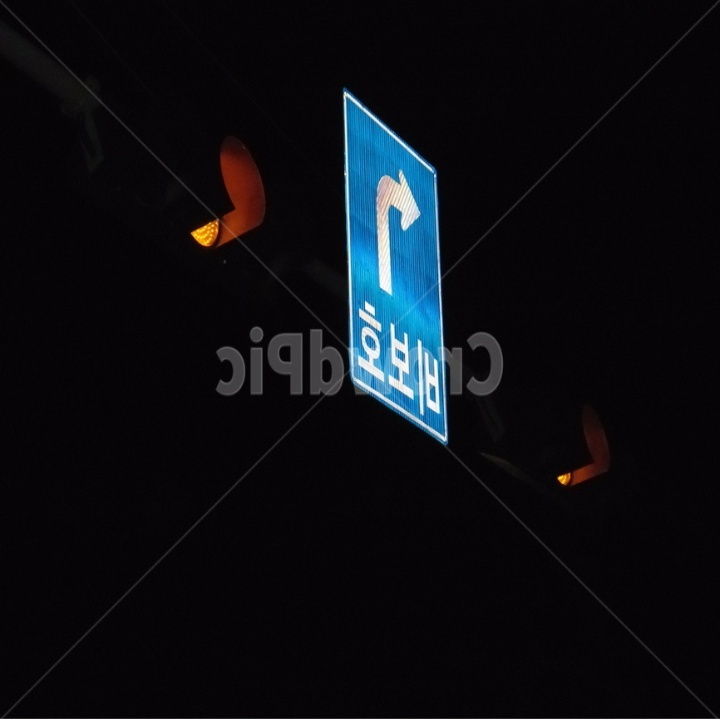right: (365, 159, 427, 296)
